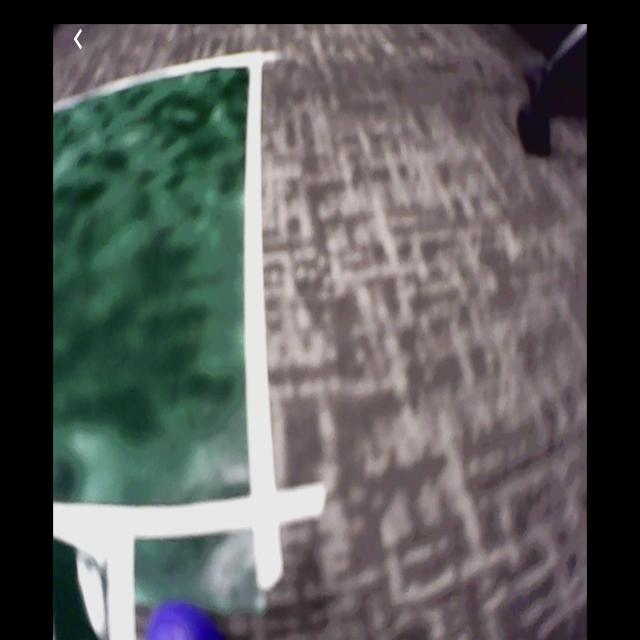ball: (144, 602, 226, 640)
